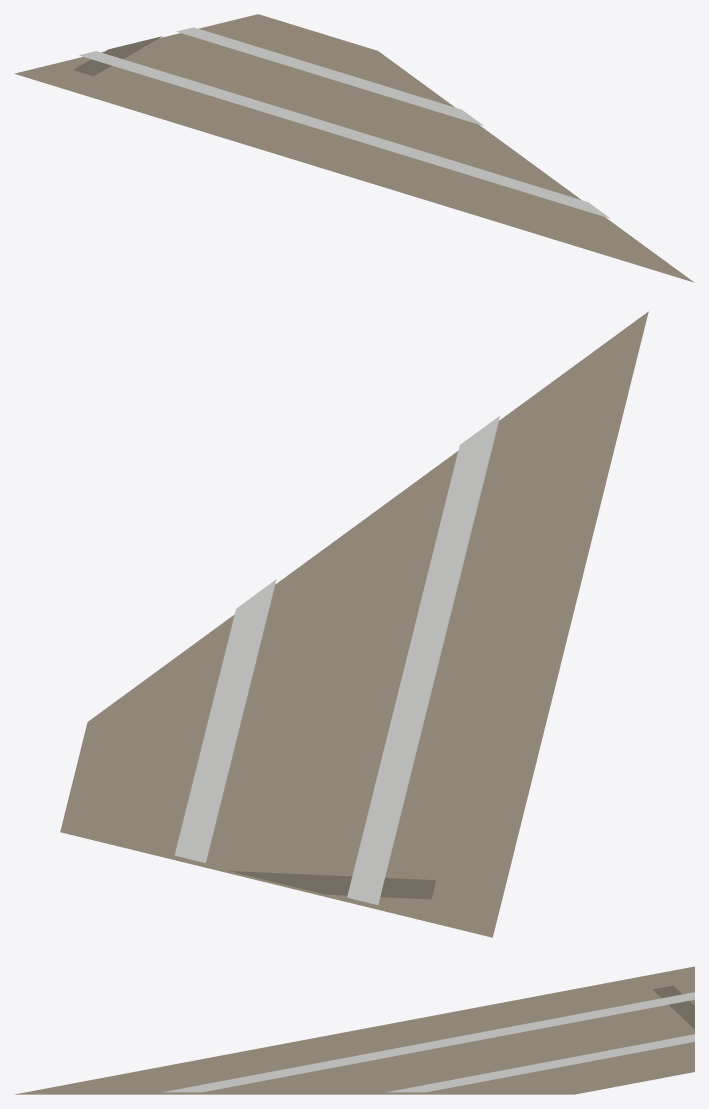
3 renders of one model, top to bottom at view 1: azimuth 30°, elevation 25°; view 2: azimuth 150°, elevation 25°; view 3: azimuth 270°, elevation 25°, orthographic. The views are drawn at different scales.
Parts seen in each view (by area): view 1: rail; view 2: rail; view 3: rail.
Part boxes in pixels (x1,y1,x2,y2): rail: [14, 14, 694, 282]; rail: [60, 311, 648, 937]; rail: [14, 966, 694, 1094].
Size of the model in its own units: 4.78 by 0.04 by 10.74.
